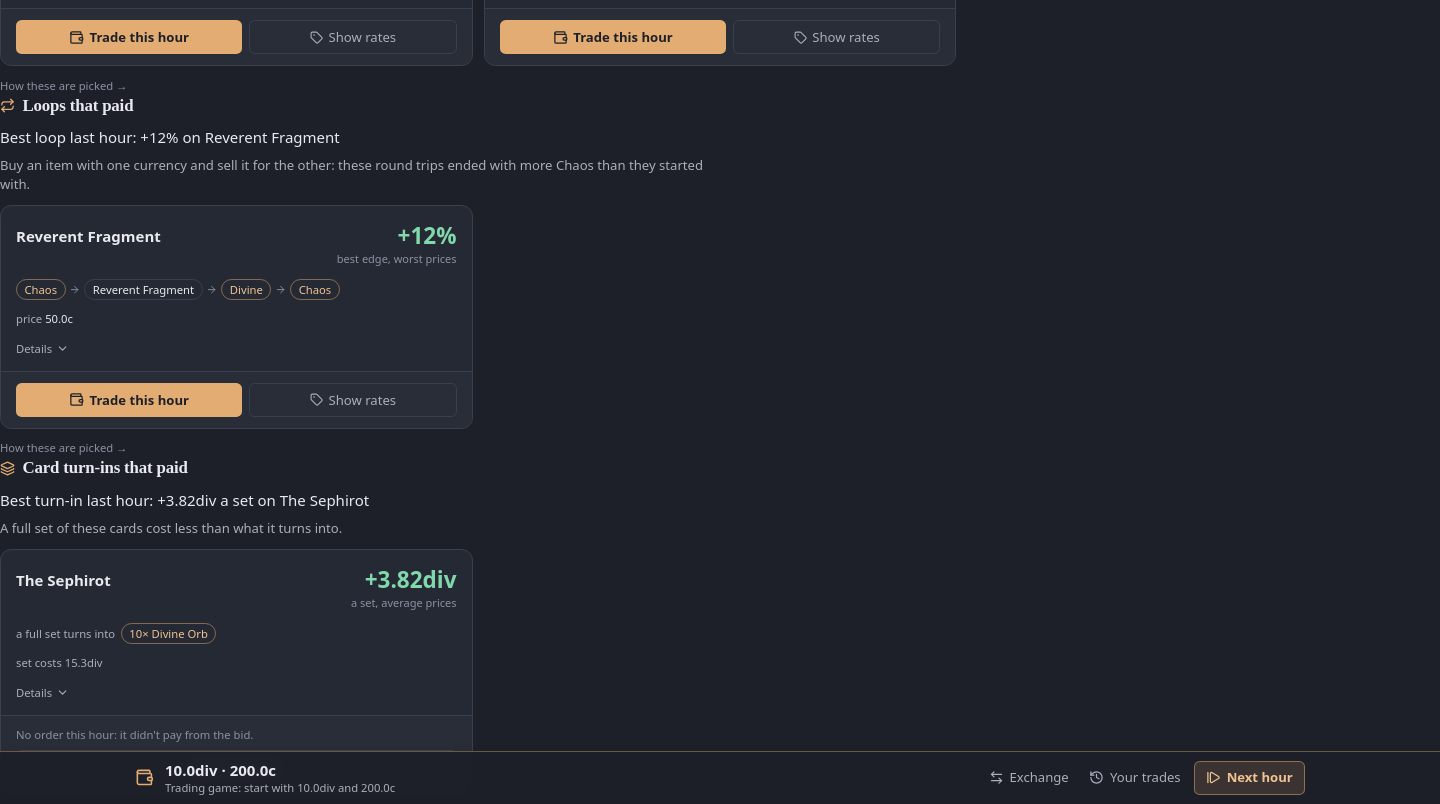
Scenario: Market recap in the preview: the trading game › trades a loop for the hour, steps to the next and settles it
(page scrolled)
Expected: the text named "Your wallet" reads "10.0div · 200.0c", 165,761 -> 276,780
Click the button "Trade this hour" below "best edge, worst prices".
click(129, 400)  # box 16,383 -> 242,417
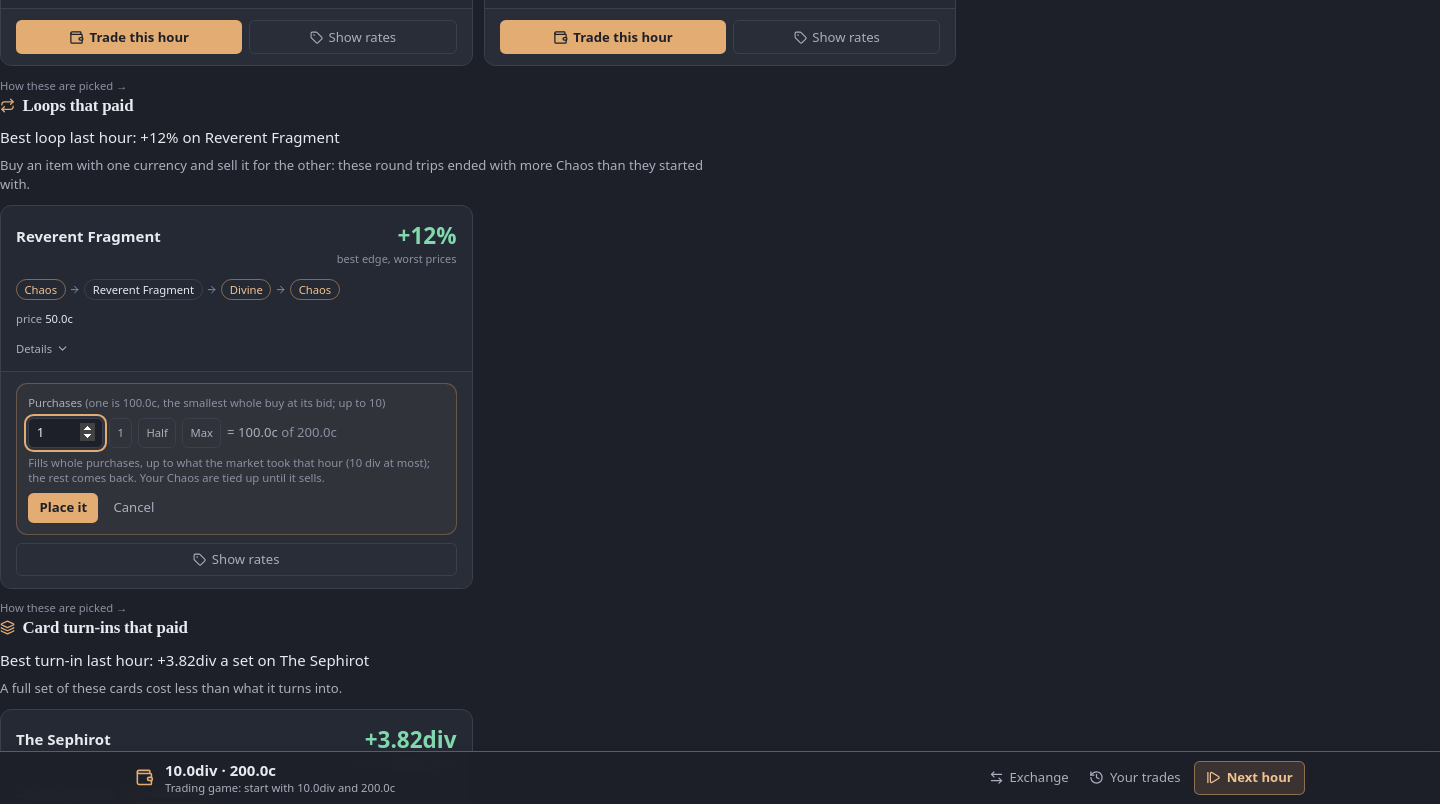
Expected: the number field labelled "Purchases" holds "1"
Expected: the text "(one is 100.0c, the smallest whole buy at its bid; up to 10)" is shown, 85,395 -> 385,410
Replace the text in the number field labelled "Purchases" with "8" at (66, 433), box 28,418 -> 103,448
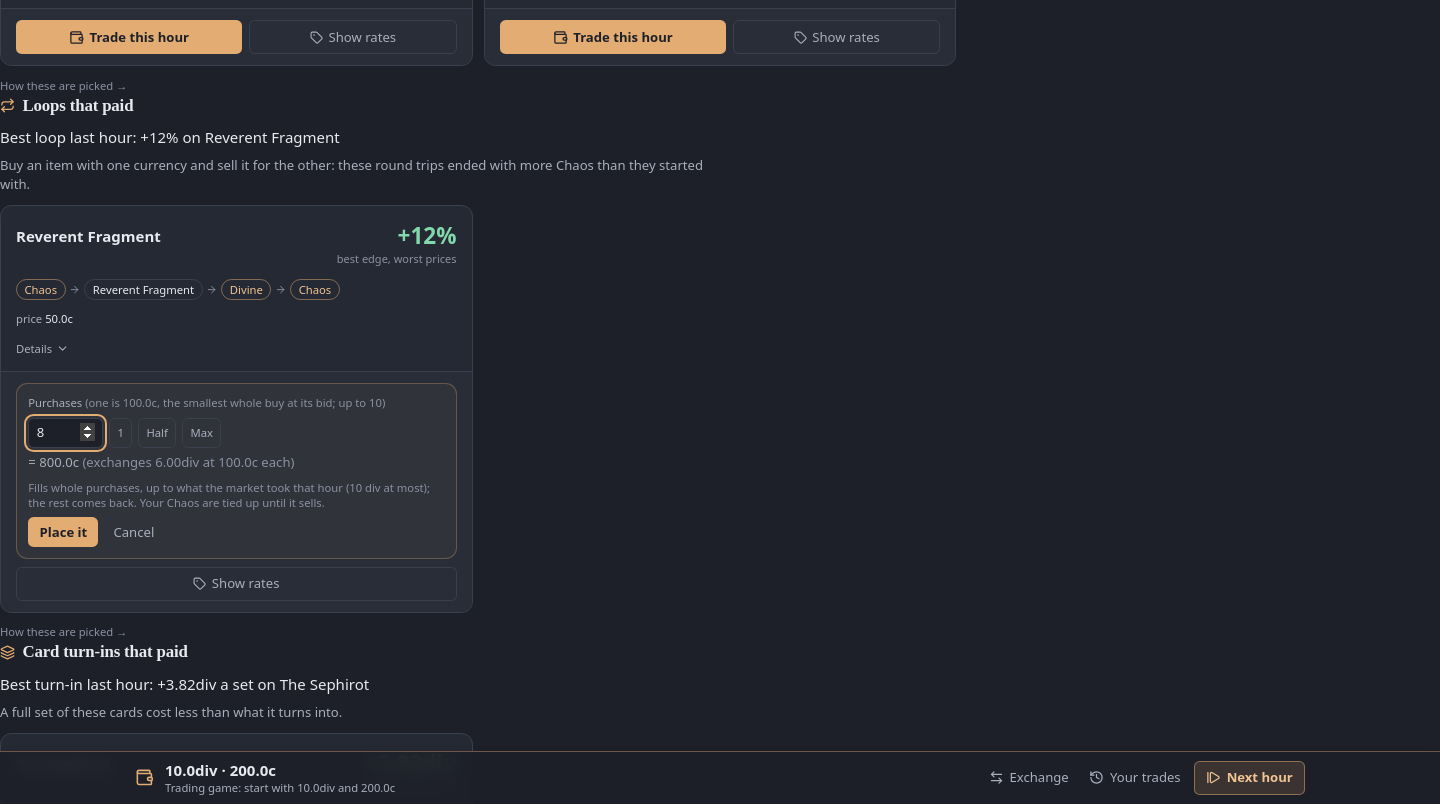
Expected: the text "= 800.0c (exchanges 6.00div at 100.0c each)" is shown, 28,454 -> 294,472
Click the button "Place it".
click(63, 532)  # box 28,517 -> 98,547
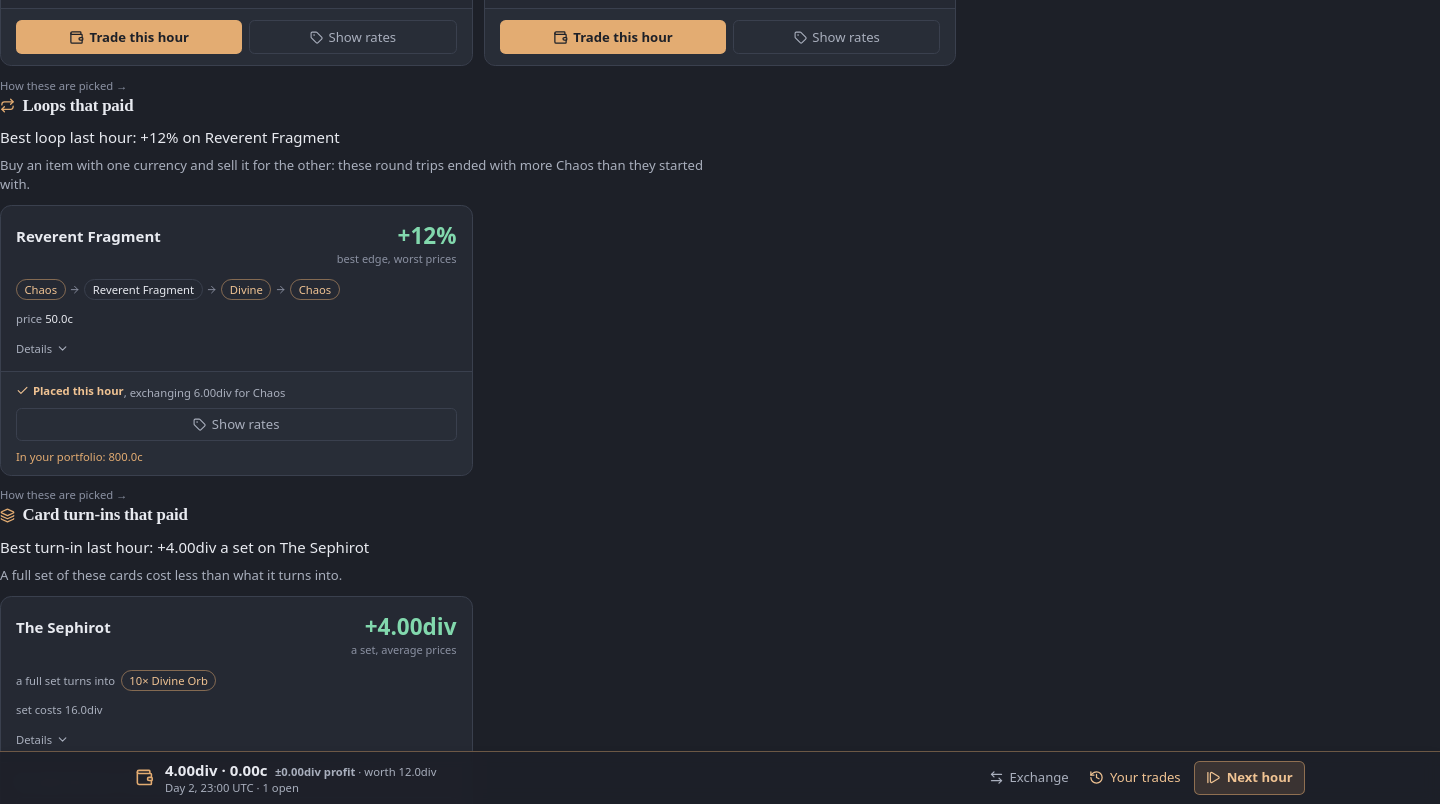
Expected: the 1st button "Trade this hour" is shown, 16,20 -> 242,54
Expected: the text "Placed this hour" is shown, 16,383 -> 124,398
Expected: the text ", exchanging 6.00div for Chaos" is shown, 124,385 -> 285,400
Click the button "Next hour".
click(1249, 778)  # box 1194,761 -> 1305,795
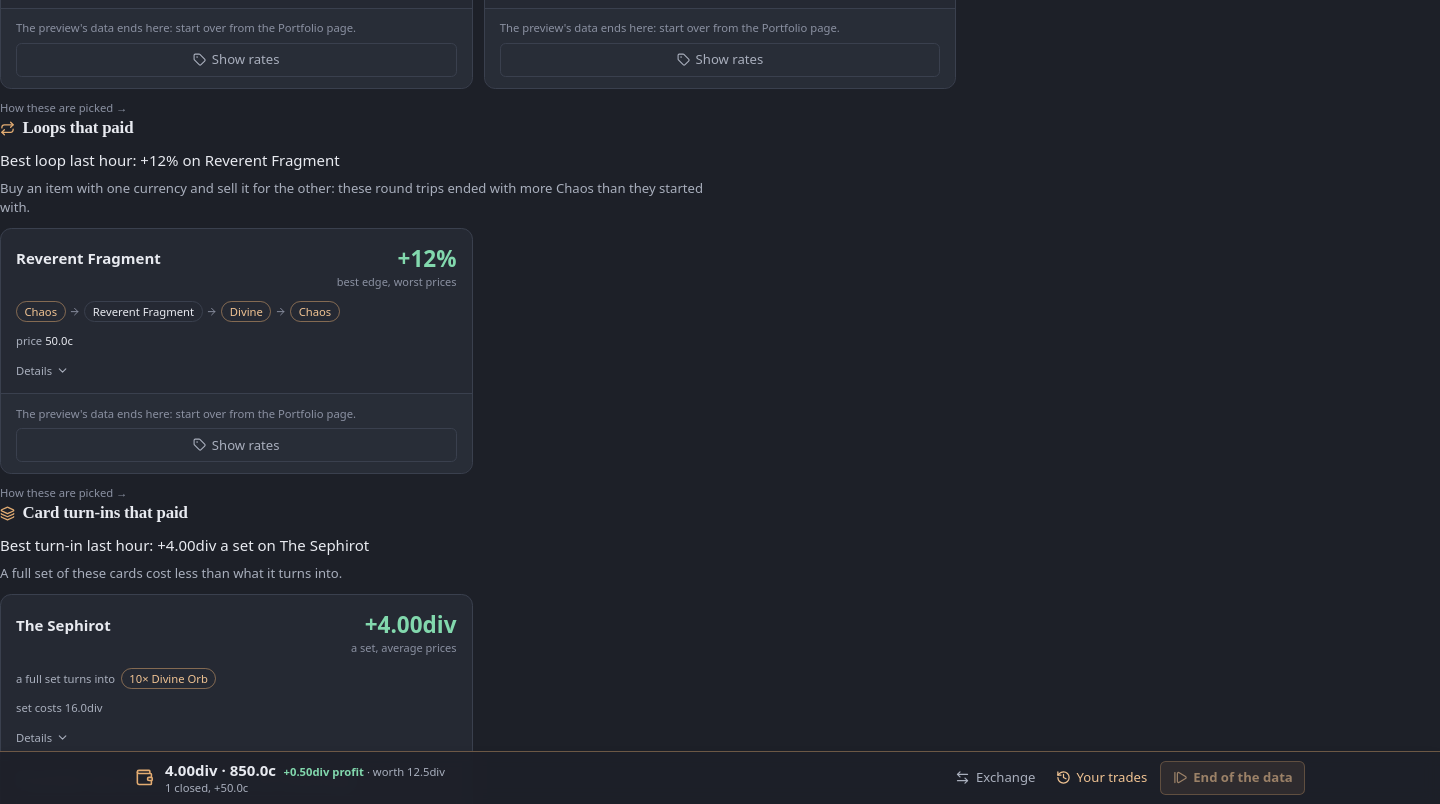
Expected: the text "1 closed, +50.0c" is shown, 165,780 -> 248,795
Expected: the text named "Your wallet" reads "4.00div · 850.0c", 165,761 -> 276,780
Expected: the text labelled "profit" reads "+0.50div profit", 284,764 -> 364,779
// Exchange at the hour's average Divine price.
Click the button "Exchange".
click(995, 778)  # box 948,761 -> 1043,795
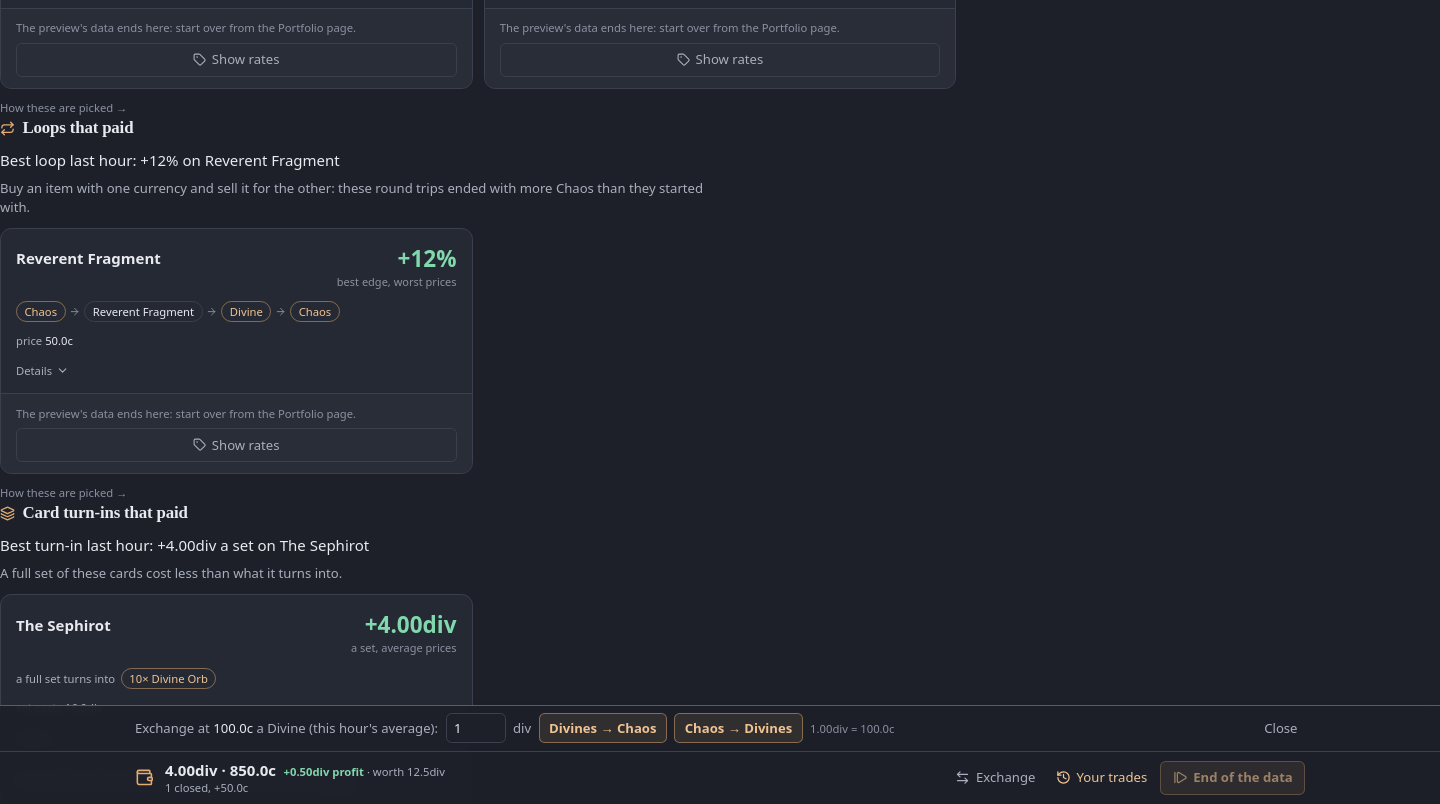
Replace the text in the number field labelled "Exchange at 100.0c a Divine (this hour's average):" with "2" at (476, 728), box 446,713 -> 506,743
Click the button "Chaos → Divines".
click(738, 728)  # box 674,713 -> 803,743
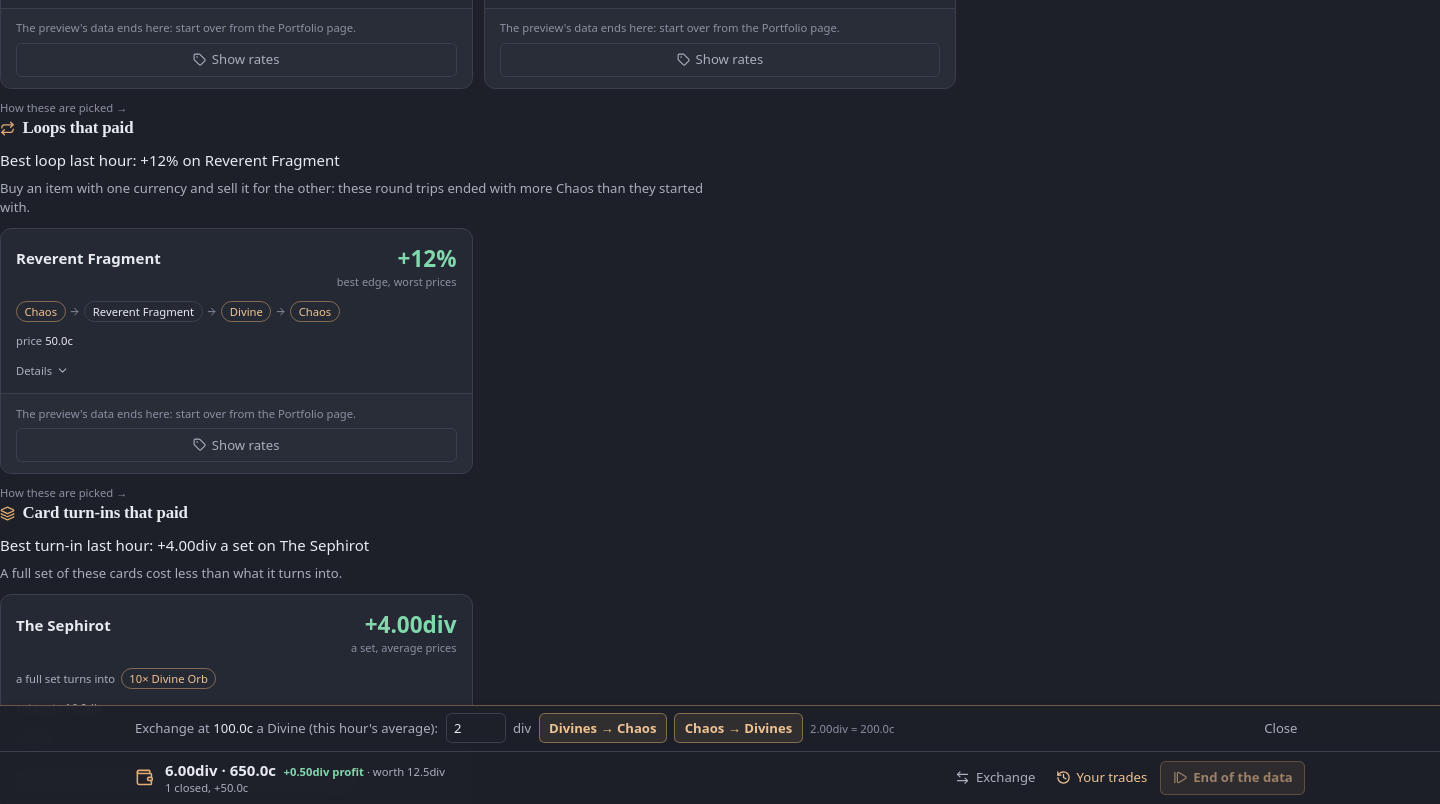
Expected: the text named "Your wallet" reads "6.00div · 650.0c", 165,761 -> 276,780
